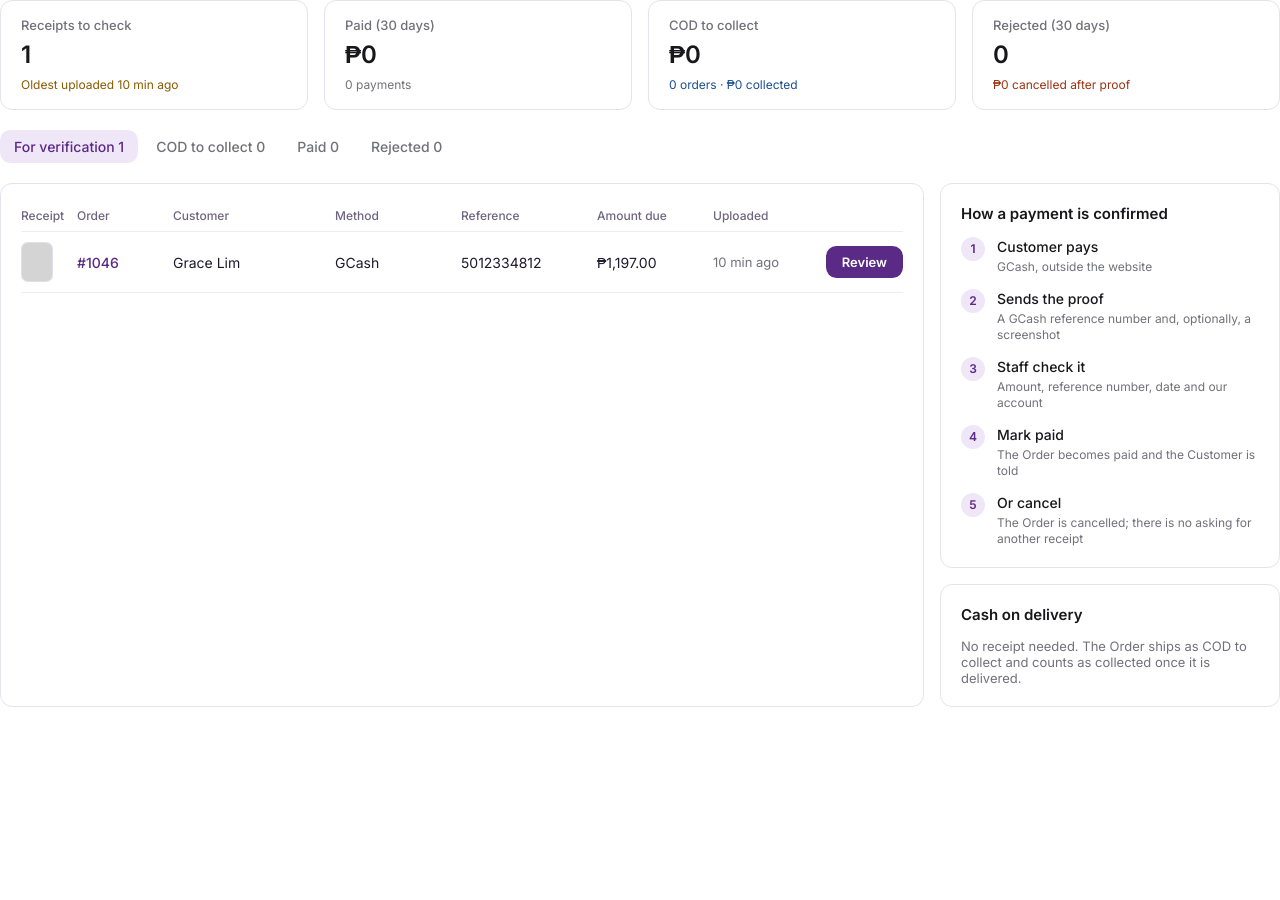
Test: the Payments page › opens the verify dialog with the proof beside the amount due, offering Mark paid and Cancel order
The width and height of the screenshot is (1280, 900).
Click the button "Review": {"x": 864, "y": 262} [826,246,903,278]
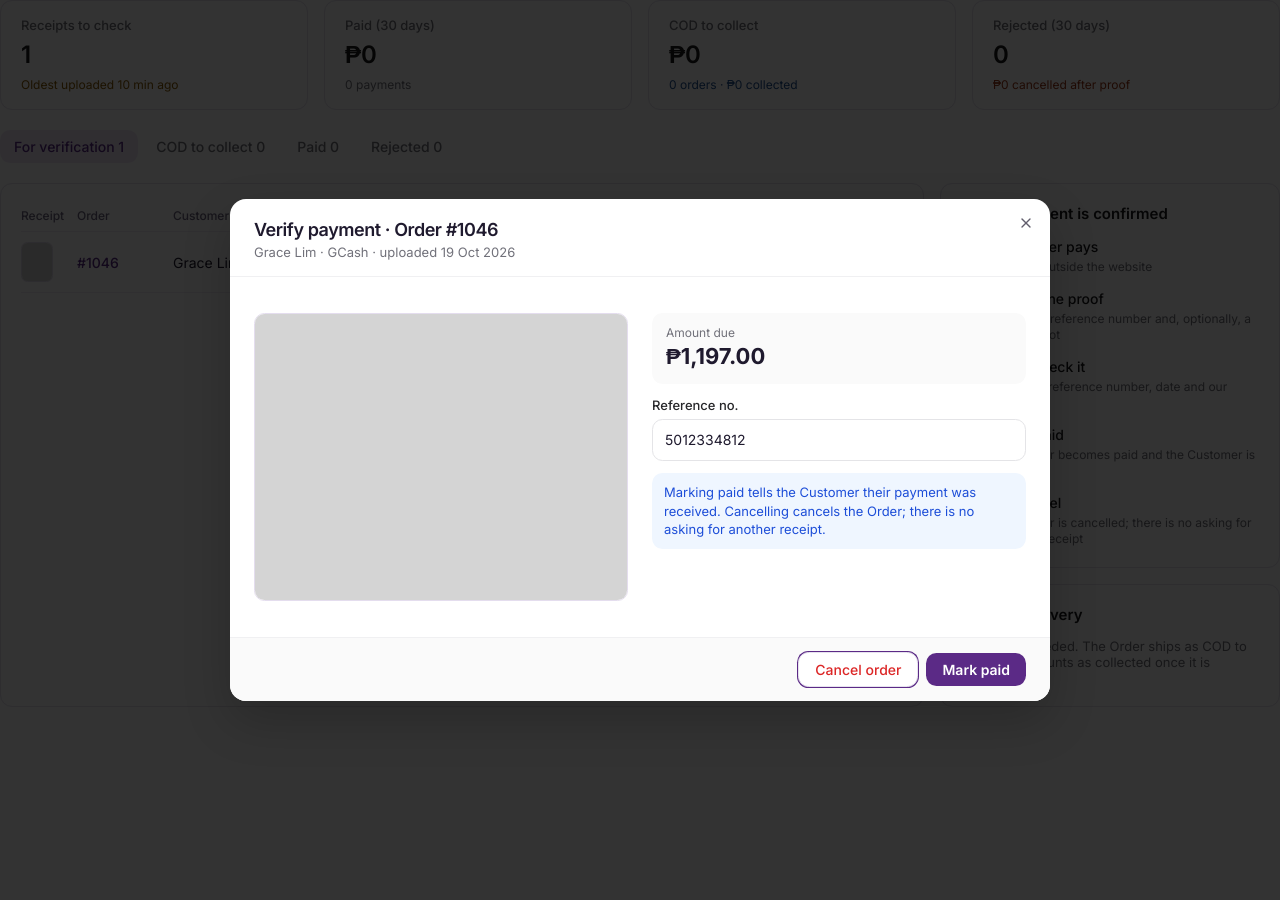
Result: the text "₱1,197.00" is shown at [666,343,765,369]
Result: the text "5012334812" is shown at [652,419,1026,461]
Result: the button "Mark paid" is shown at [926,653,1026,686]
